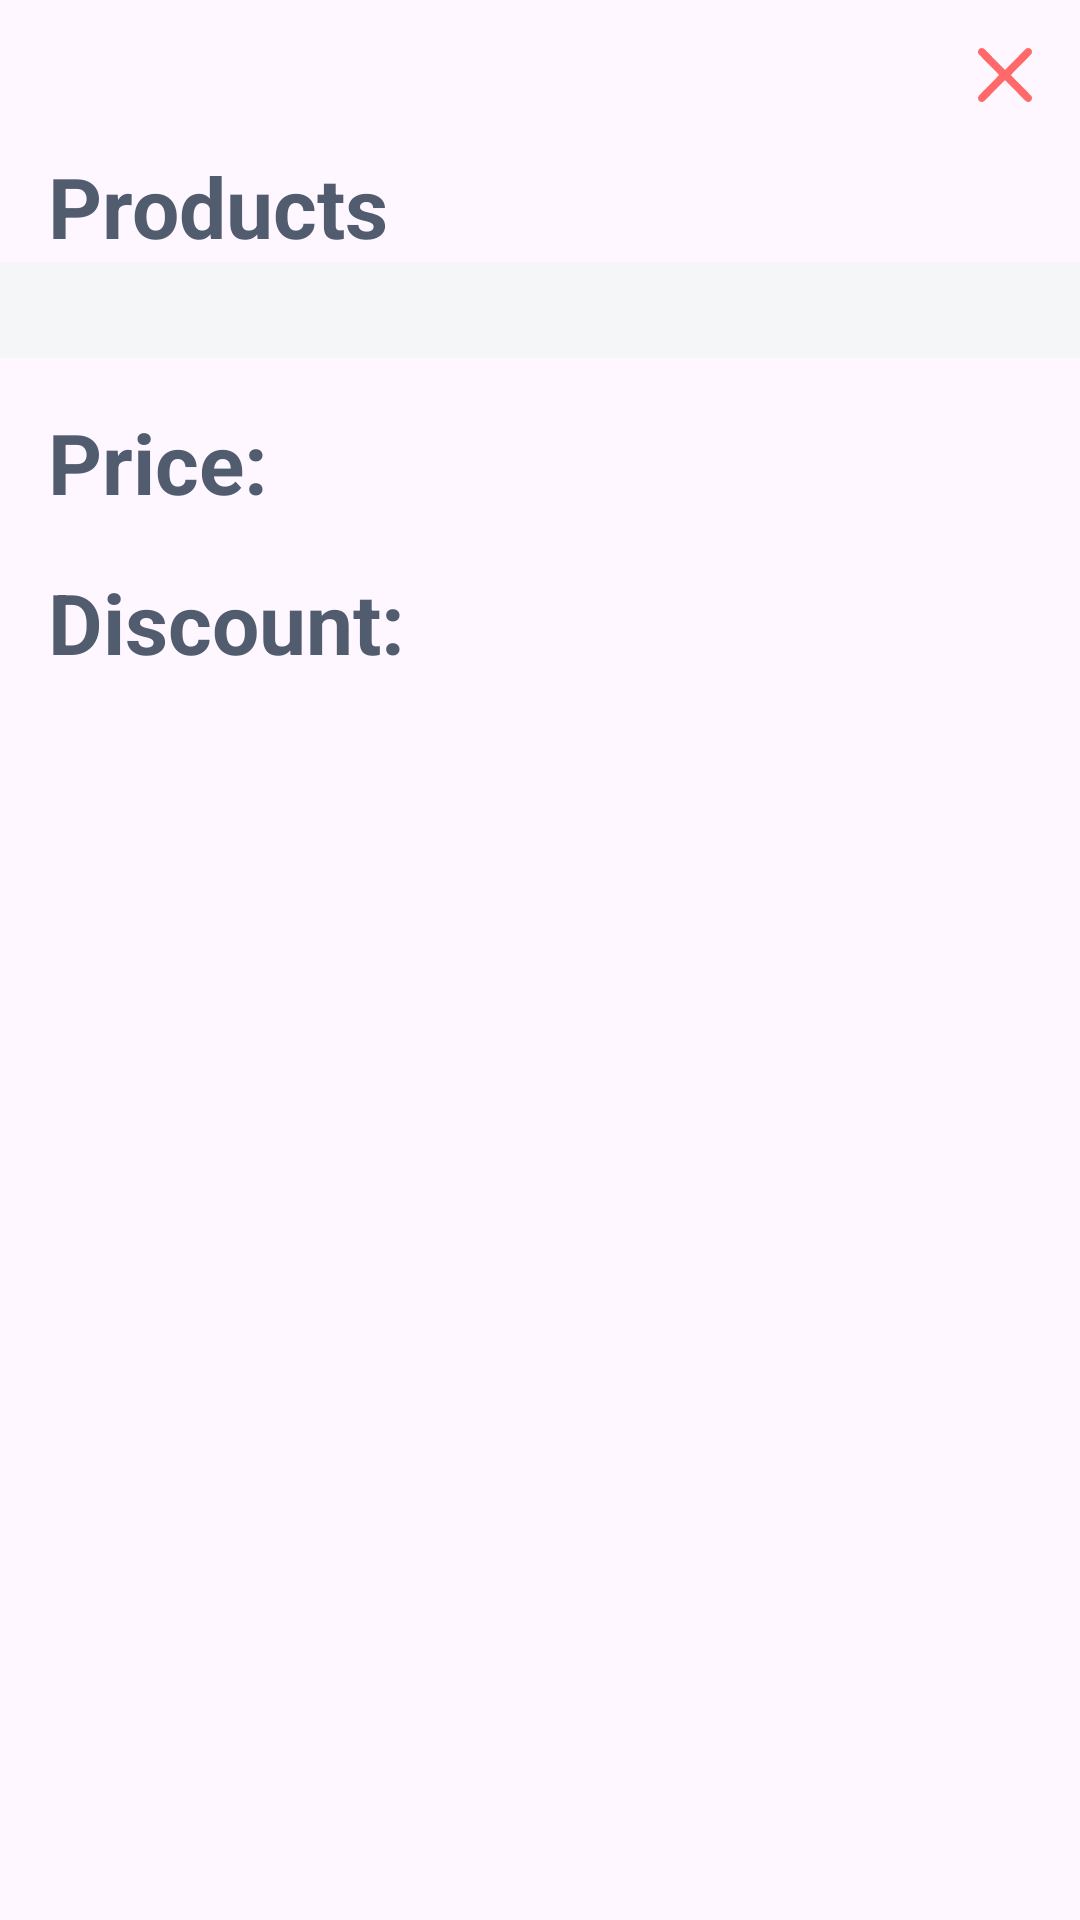

Where to tap for icons on this 1080×1920 app screen, as (x=x, y=y):
close: (x=1005, y=75)
